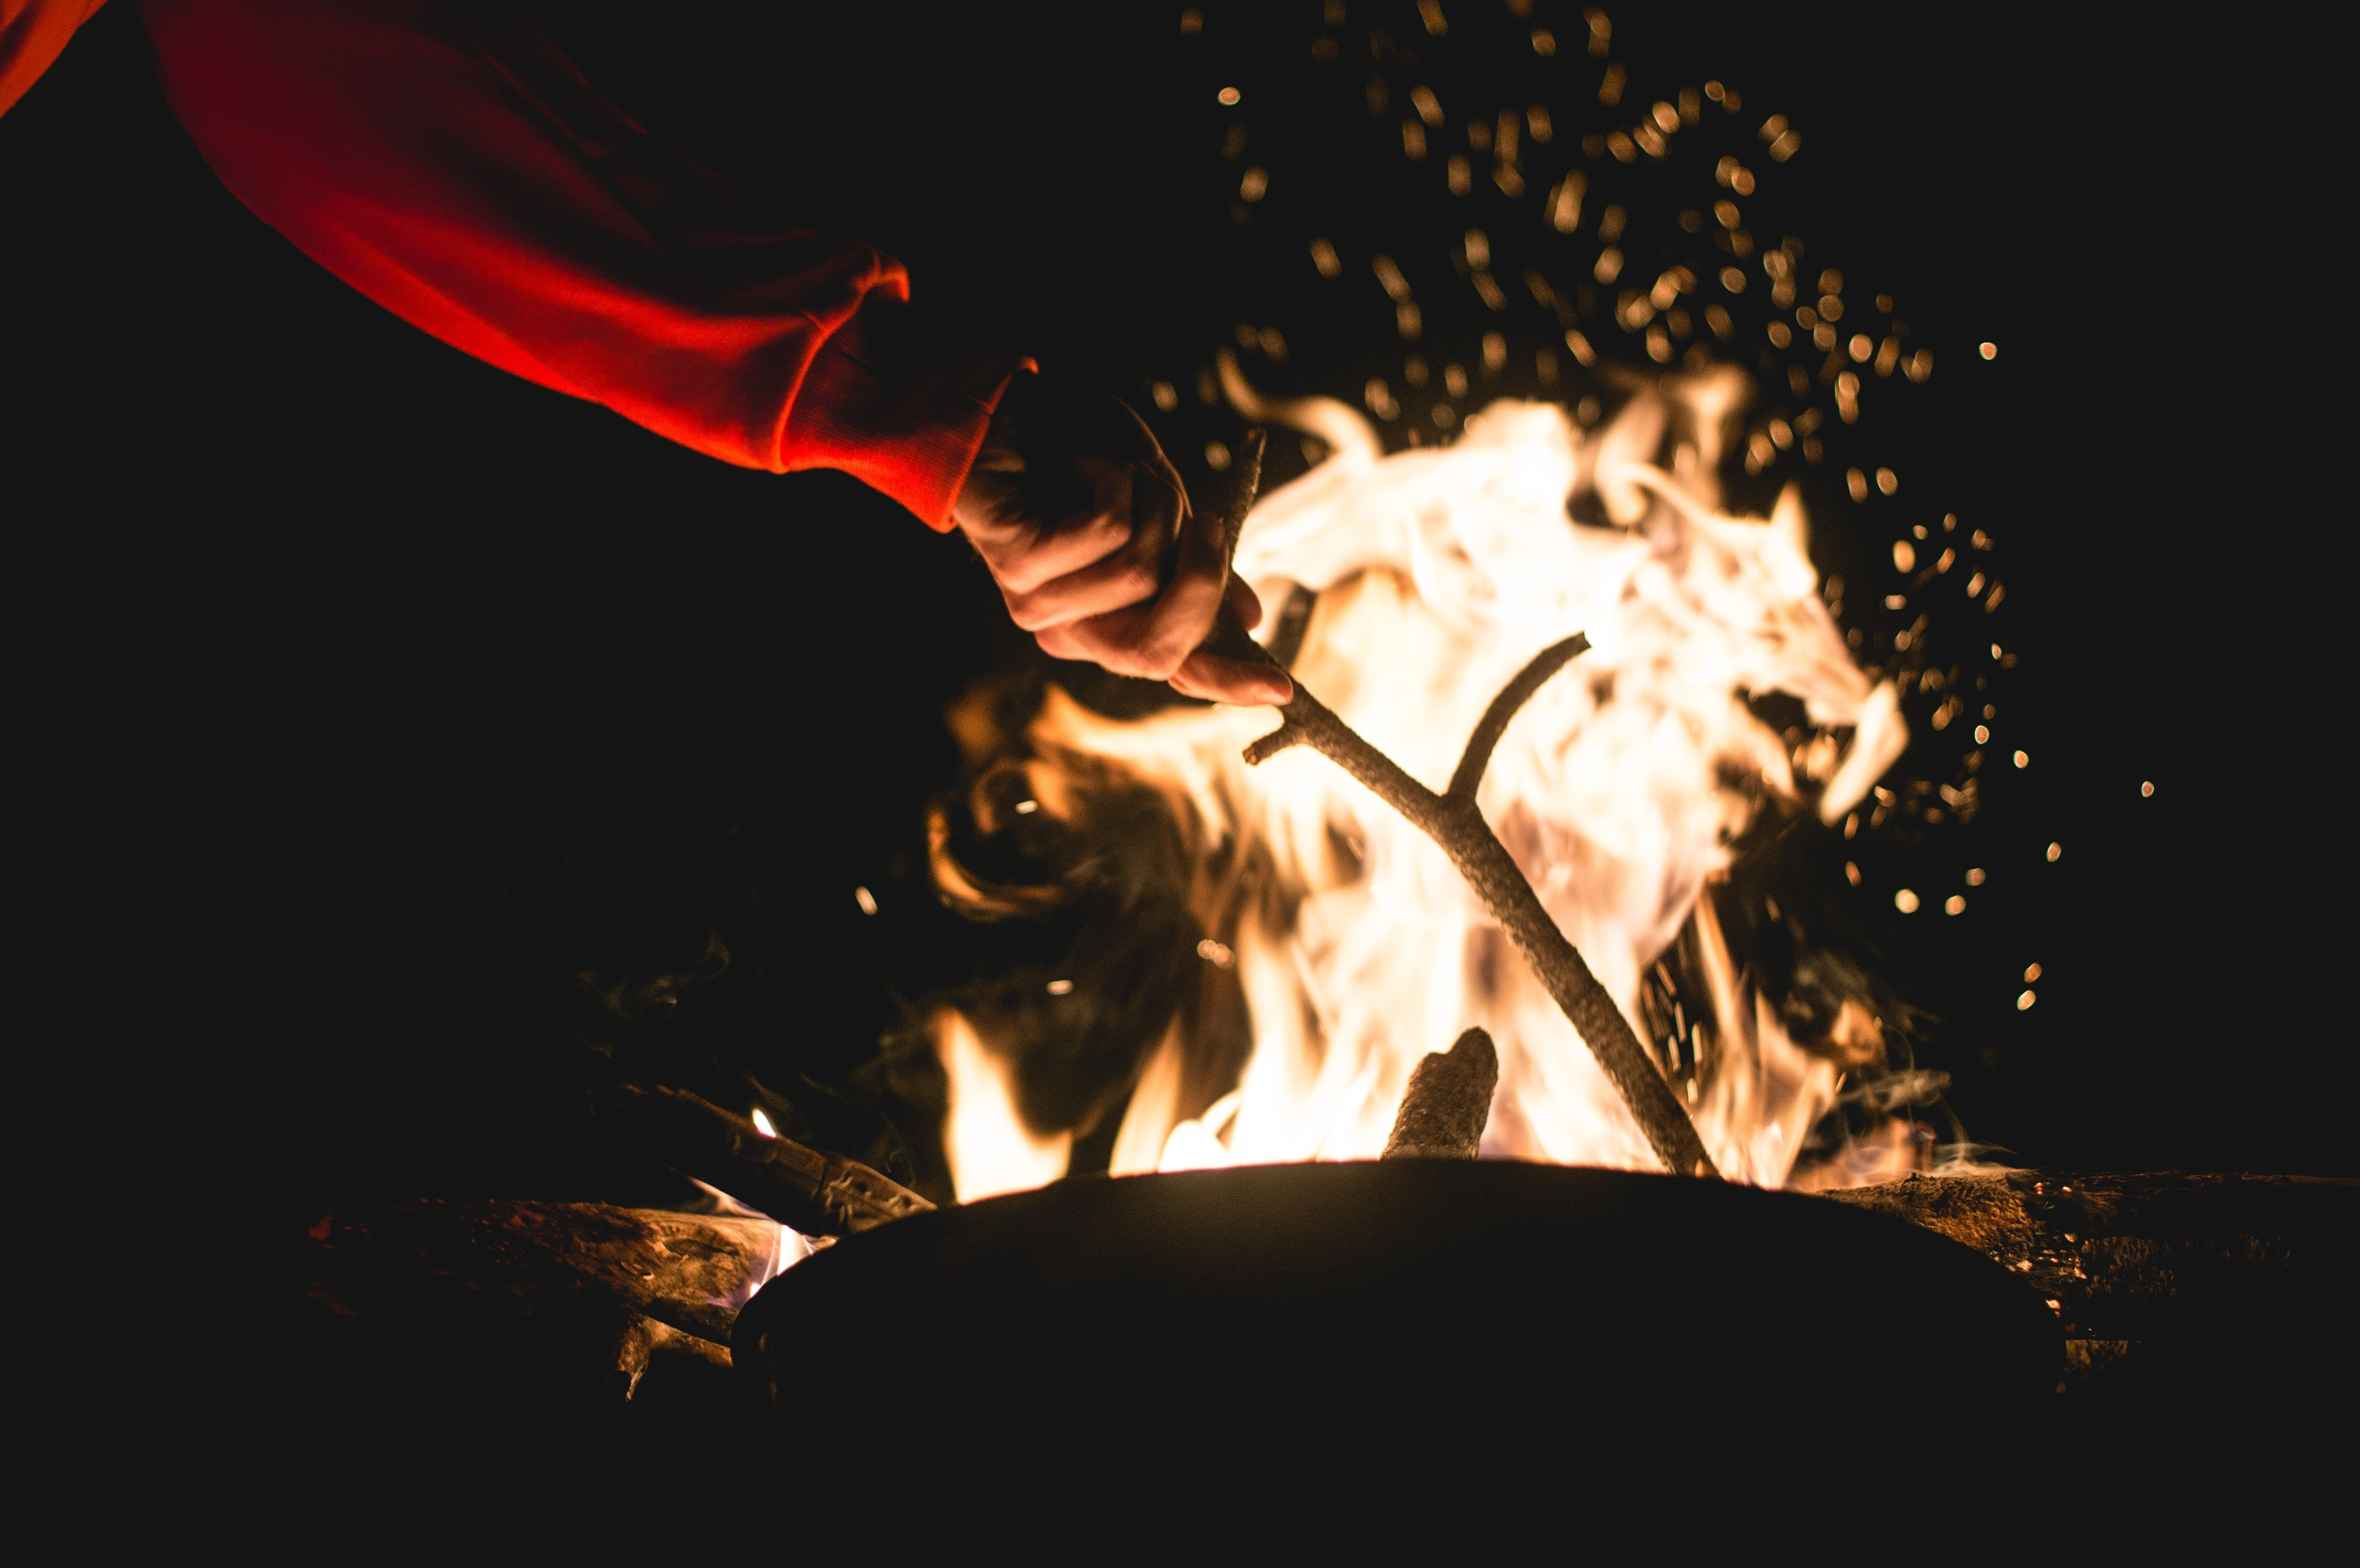fire: (840, 394, 1987, 1195)
